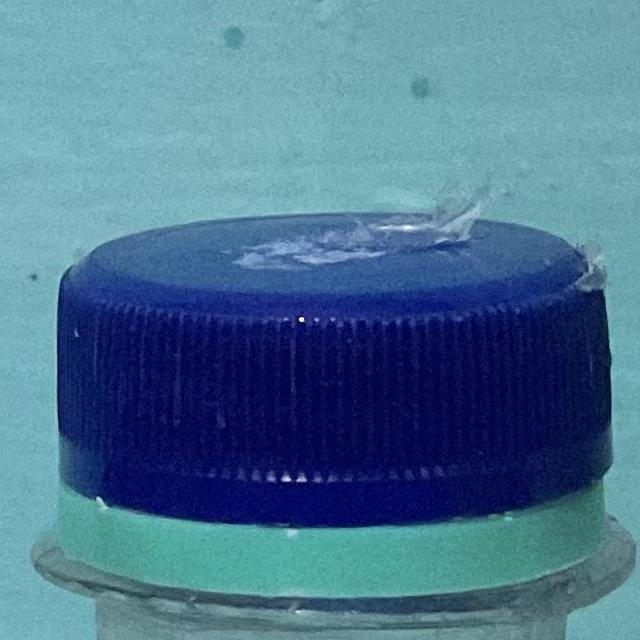Good-cap-Df0S: (39, 214, 625, 596)
